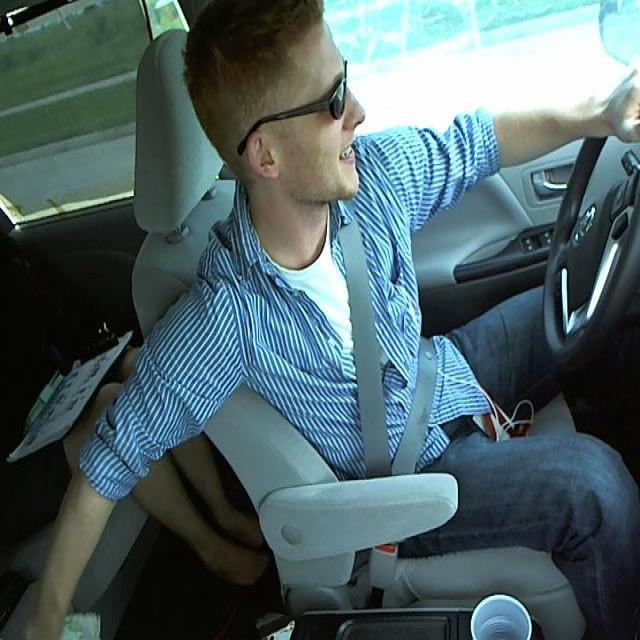seatbelt: (328, 205, 442, 487)
